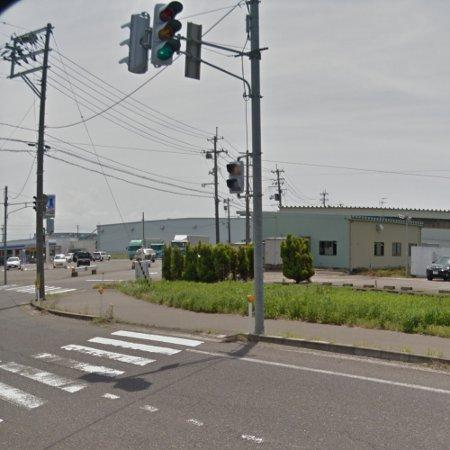crosswalks: (1, 331, 204, 414)
